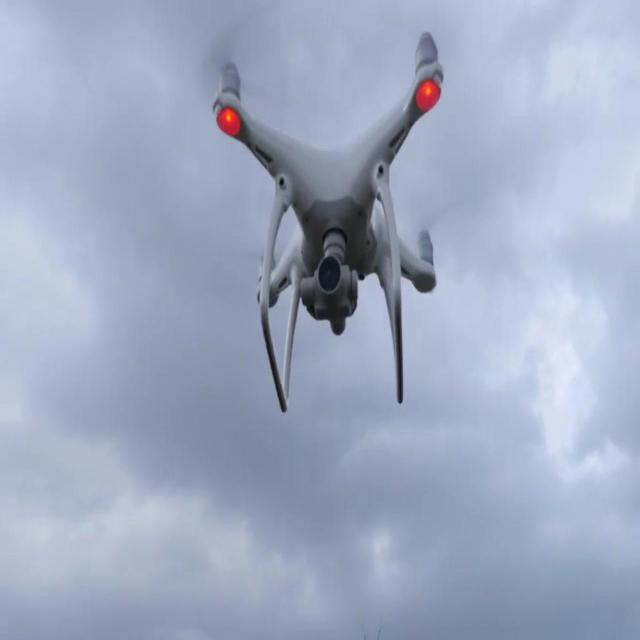drone: (211, 29, 445, 413)
